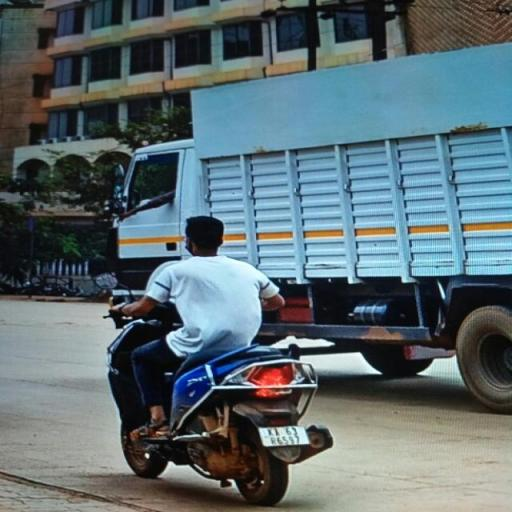bike: (94, 210, 344, 468)
numberplate: (262, 422, 310, 450)
withouthelmet: (185, 217, 226, 252)
